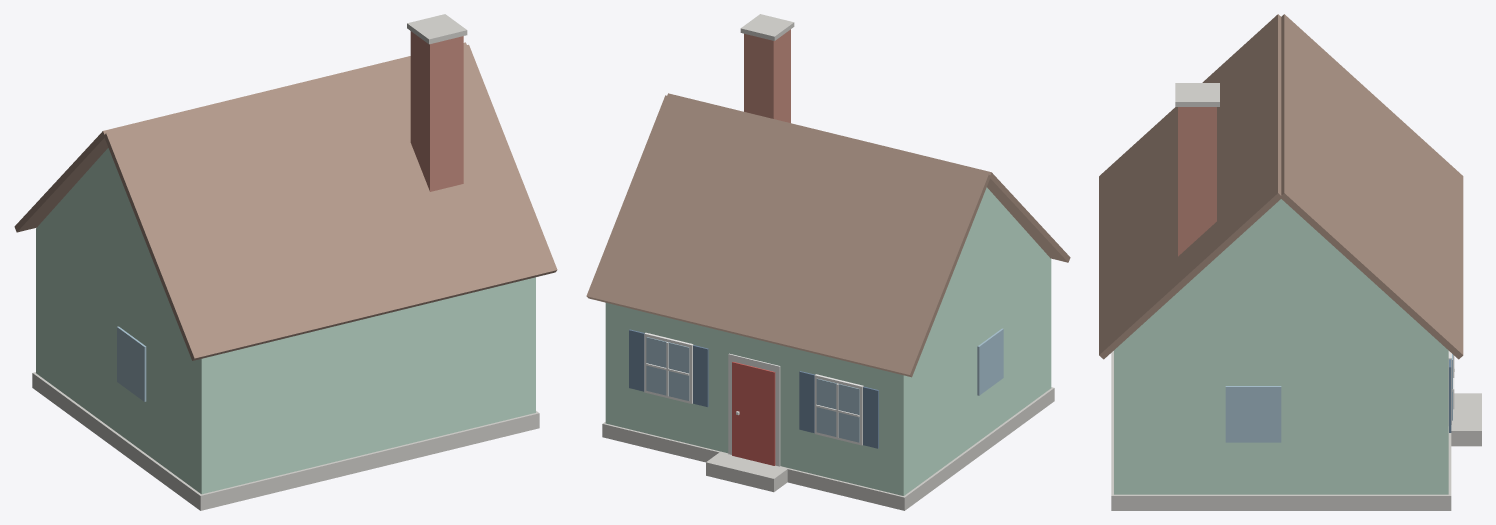
The model's file is house_cottage.glb.
The picture shows the model from 3 angles, left to right: view 1: azimuth 30°, elevation 25°; view 2: azimuth 150°, elevation 25°; view 3: azimuth 270°, elevation 25°; orthographic projection. The views are drawn at different scales.
Visible parts, largest first — view 1: body; view 2: body; view 3: body.
Boxes of the visible parts, left/top/right/bottom form: body: left=14, top=14, right=557, bottom=510; body: left=586, top=14, right=1070, bottom=510; body: left=1099, top=14, right=1481, bottom=510.
Size of the model in its own units: 7.6 by 7.7 by 6.87.
